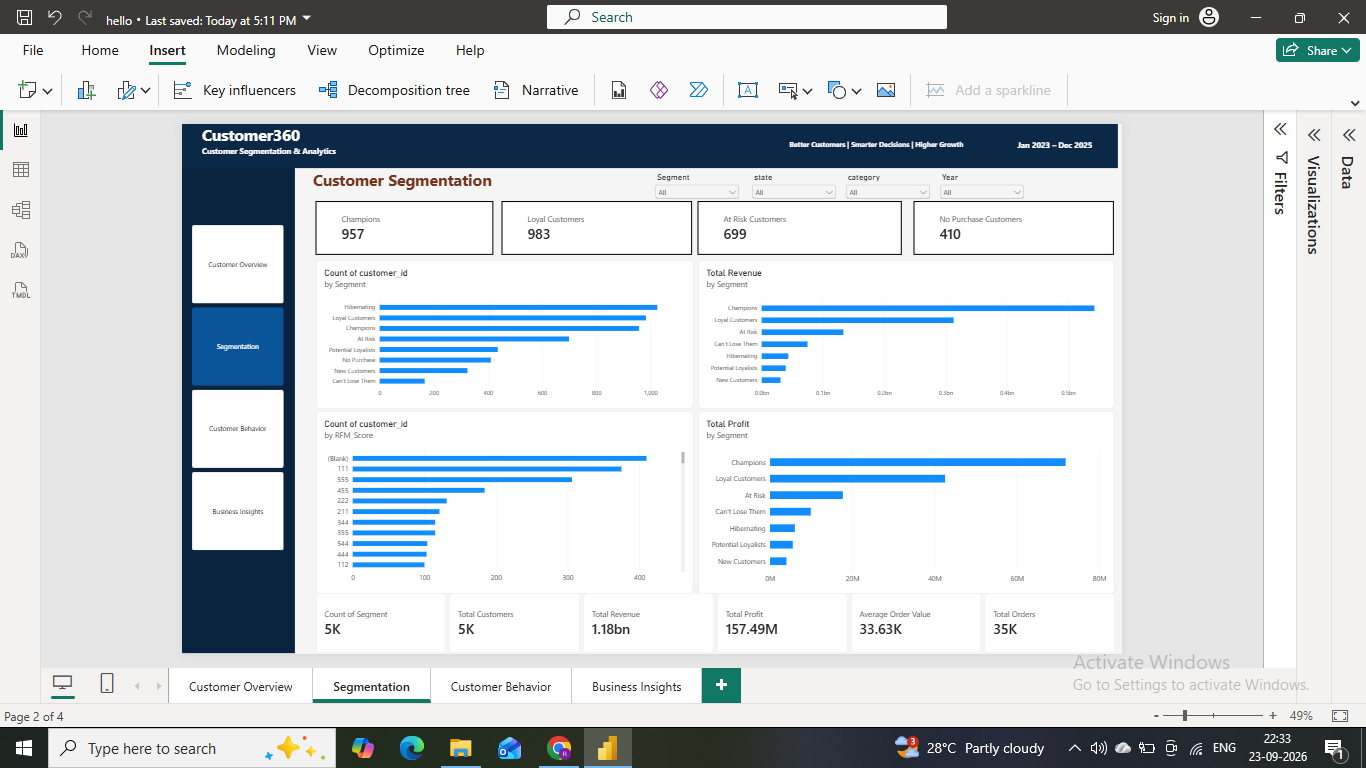

Layout of this report page (visuals, bound fields, positions):
{"tool":"powerbi","page":{"name":"Segmentation","canvas":[1920,1080],"ordinal":1},"visuals":[{"type":"shape","box":[0,0,1910,90],"z":0},{"type":"textbox","box":[40,0,382.5,120],"z":1000},{"type":"textbox","box":[40.3,45.4,383,45.4],"z":2000},{"type":"shape","box":[0,90,230,990],"z":3000},{"type":"textbox","box":[847.5,32.5,747.5,57.5],"z":5000},{"type":"textbox","box":[1632.5,32.5,225,57.5],"z":6000},{"type":"textbox","box":[231.1,91.1,446.7,55.6],"z":7000},{"type":"slicer","fields":{"Values":["customer360_db customer360.Segment"]},"box":[961.4,97.1,180,70],"z":8000},{"type":"slicer","fields":{"Values":["customer360_db customers.state"]},"box":[1160,97.1,180,70],"z":9000},{"type":"slicer","fields":{"Values":["customer360_db products.category"]},"box":[1350,97.1,180,70],"z":10000},{"type":"slicer","fields":{"Values":["customer360_db customer360.signup_date.Variation.Date Hierarchy.Year"]},"box":[1542.9,97.1,180,70],"z":11000},{"type":"cardVisual","fields":{"Data":["Measures (3).Champions"]},"box":[272,158,364,110],"z":13000},{"type":"cardVisual","fields":{"Data":["Measures (3).Loyal Customers"]},"box":[652,158,390,110],"z":14000},{"type":"cardVisual","fields":{"Data":["Measures (3).At Risk Customers"]},"box":[1052,158,418,110],"z":15000},{"type":"cardVisual","fields":{"Data":["Measures (3).No Purchase Customers"]},"box":[1492,158,410,110],"z":16000},{"type":"clusteredBarChart","title":"CUSTOMER SEGMENTS","fields":{"Category":["customer360_db customer360.Segment"],"Y":["CountNonNull(customer360_db customer360.customer_id)"]},"box":[272.5,277.5,770,302.5],"z":17000},{"type":"barChart","title":"REVENUE BY SEGMENT","fields":{"Category":["customer360_db customer360.Segment"],"Y":["Measures (3).Total Revenue"]},"box":[1052.5,277.5,850,302.5],"z":18000},{"type":"clusteredBarChart","title":"RFM SCORE DISTRIBUTION","fields":{"Category":["customer360_db customer360.RFM_Score"],"Y":["CountNonNull(customer360_db customer360.customer_id)"]},"box":[272.5,585,770,372.5],"z":19000},{"type":"barChart","title":" PROFIT BY SEGMENT","fields":{"Category":["customer360_db customer360.Segment"],"Y":["Measures (3).Total Profit"]},"box":[1053,585,850,373],"z":20000},{"type":"cardVisual","fields":{"Data":["CountNonNull(customer360_db customer360.Segment)","Measures (3).Total Customers","Measures (3).Total Revenue","Measures (3).Total Profit","Measures (3).Average Order Value","Measures (3).Total Orders"]},"box":[272.5,957.5,1630,122.5],"z":21000},{"type":"pageNavigator","box":[21.3,206.2,187.1,665.4],"z":21001}]}

Visuals, with their boxes on the page's 1920x1080 design canvas (x1, y1, x2, y2). These are canvas units, not pixel positions in the 1366x768 screenshot, which may show the page scaled, cropped or inside an application window:
shape: (0,0,1910,90)
textbox: (40,0,422,120)
textbox: (40,45,423,91)
shape: (0,90,230,1080)
textbox: (848,32,1595,90)
textbox: (1632,32,1858,90)
textbox: (231,91,678,147)
slicer - customer360_db customer360.Segment: (961,97,1141,167)
slicer - customer360_db customers.state: (1160,97,1340,167)
slicer - customer360_db products.category: (1350,97,1530,167)
slicer - customer360_db customer360.signup_date.Variation.Date Hierarchy.Year: (1543,97,1723,167)
cardVisual - Measures (3).Champions: (272,158,636,268)
cardVisual - Measures (3).Loyal Customers: (652,158,1042,268)
cardVisual - Measures (3).At Risk Customers: (1052,158,1470,268)
cardVisual - Measures (3).No Purchase Customers: (1492,158,1902,268)
"CUSTOMER SEGMENTS" clusteredBarChart: (272,278,1042,580)
"REVENUE BY SEGMENT" barChart: (1052,278,1902,580)
"RFM SCORE DISTRIBUTION" clusteredBarChart: (272,585,1042,958)
" PROFIT BY SEGMENT" barChart: (1053,585,1903,958)
cardVisual - CountNonNull(customer360_db customer360.Segment) x Measures (3).Total Customers: (272,958,1902,1080)
pageNavigator: (21,206,208,872)
